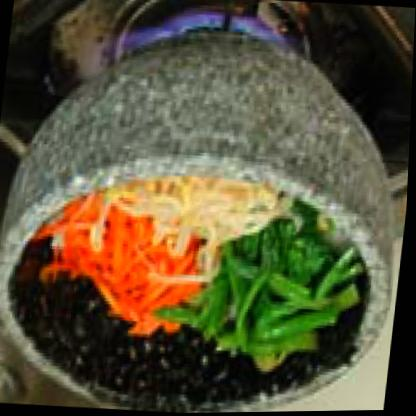bibimbap: (0, 92, 408, 415)
